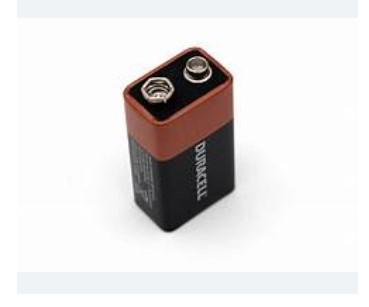9V Battery: (123, 48, 235, 232)
